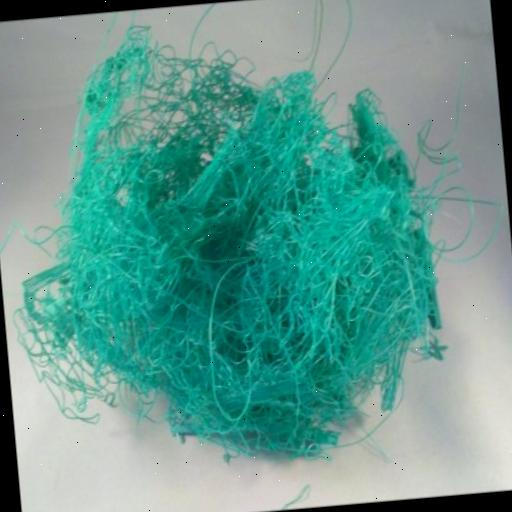spaghetti: (0, 1, 483, 490)
